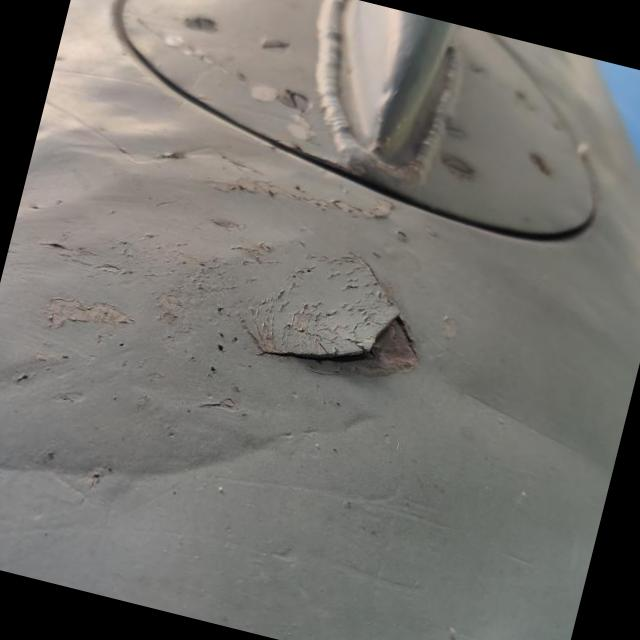Crack: (246, 251, 417, 374)
